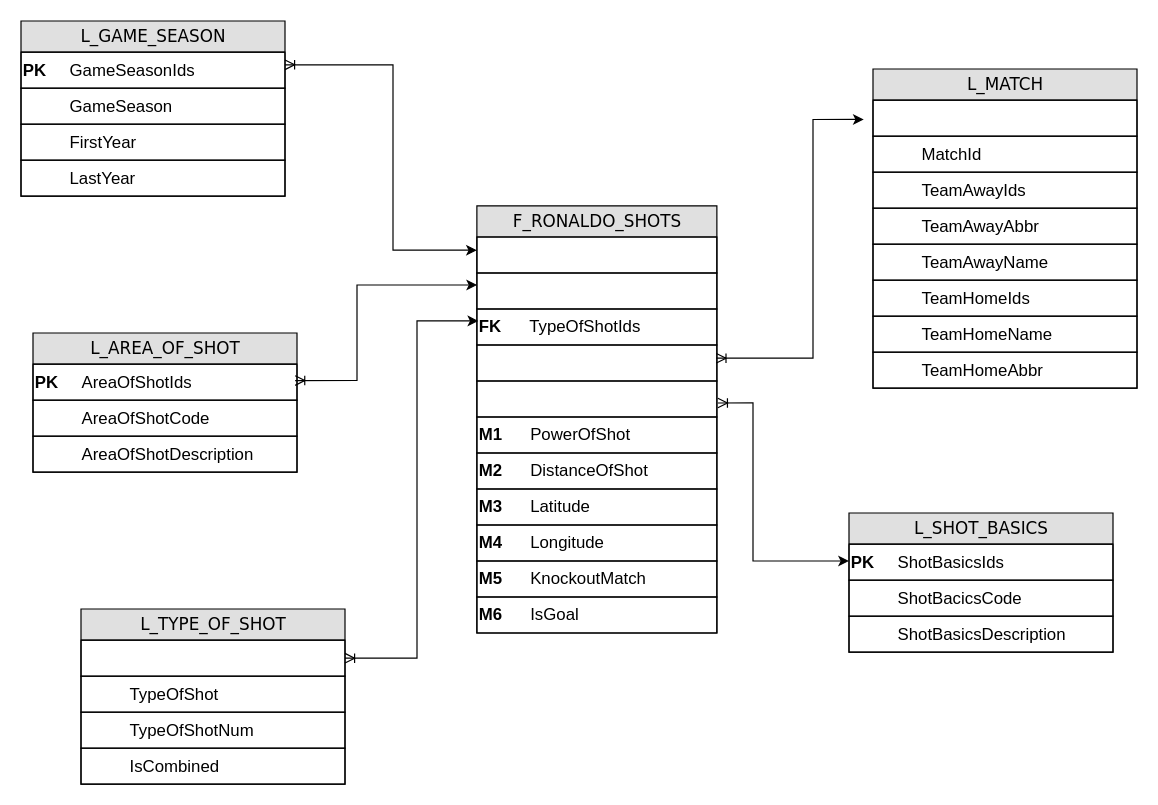
Image size: 1158x805. Some labels were removed from this diagram. The centre of each missing label's shape, as x and y in pixels:
FK AreaOfShotIds: point 596,290
FK GameSeasonIds: point 596,254
FK MatchIds: point 596,362
FK ShotBasicsIds: point 596,398
PK MatchIds: point 1004,117
PK TypeOfShotIds: point 212,657
